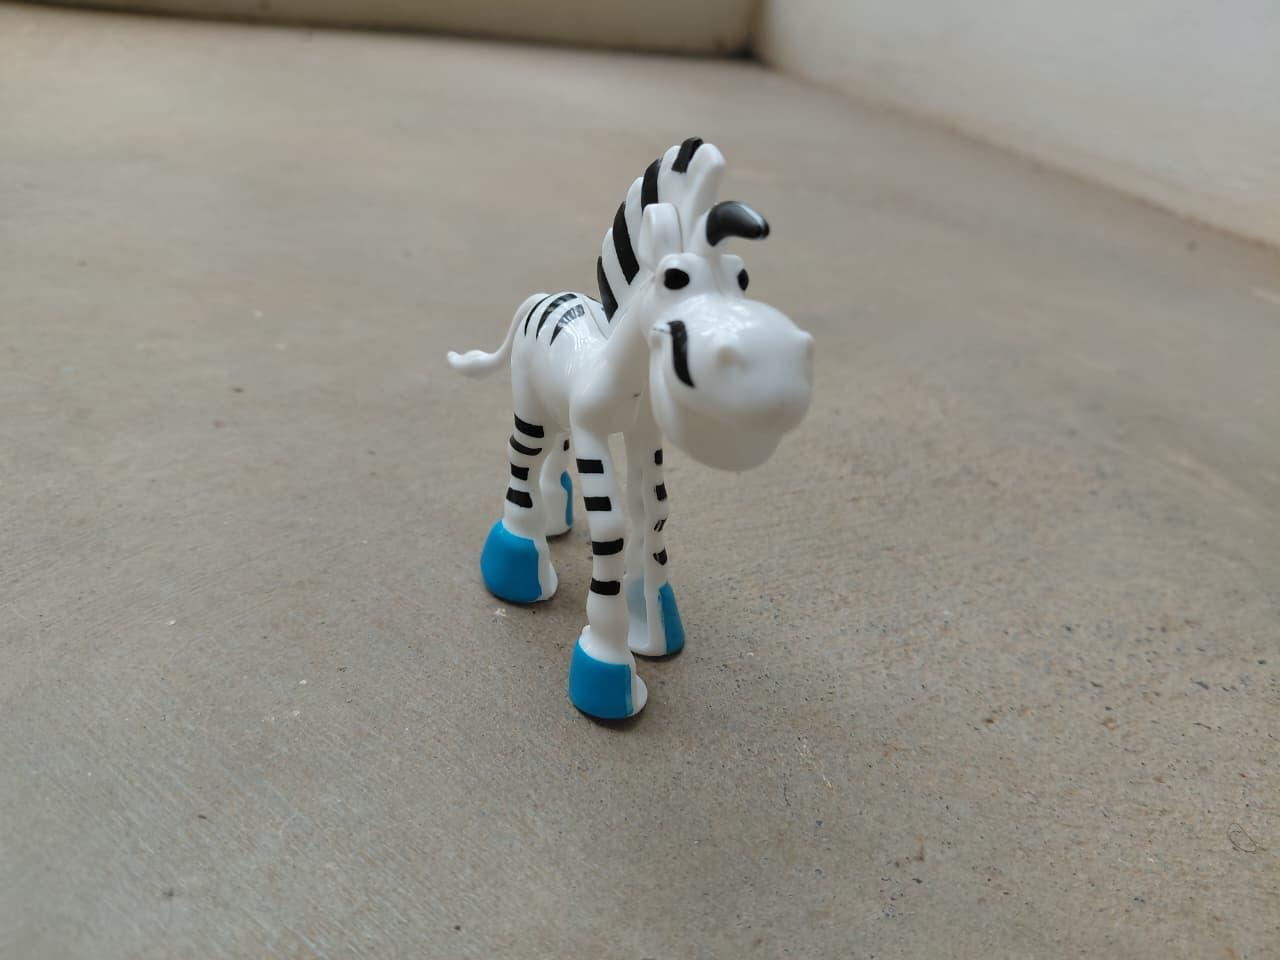zebra: (449, 122, 822, 732)
